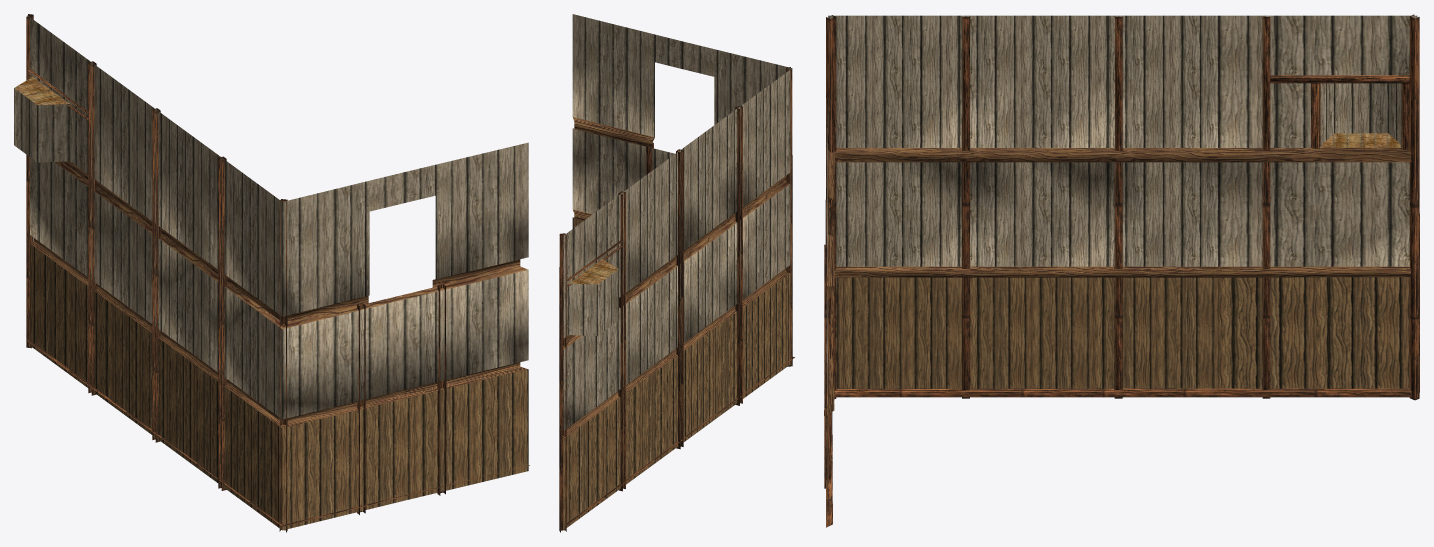
The model's file is LAKETOWN_WAREHOUSE3_PS_WH3_SIDEWALLS77464__GX.fbx.
3 renders of one model, left to right at view 1: azimuth 30°, elevation 25°; view 2: azimuth 150°, elevation 25°; view 3: azimuth 270°, elevation 25°, orthographic. The views are drawn at different scales.
Parts seen in each view (by area): view 1: LAKETOWN_WAREHOUSE3_PS_WH3_SIDEWALLS77464__GX; view 2: LAKETOWN_WAREHOUSE3_PS_WH3_SIDEWALLS77464__GX; view 3: LAKETOWN_WAREHOUSE3_PS_WH3_SIDEWALLS77464__GX.
Part boxes in pixels (box(x1,y1,x2,y2)): LAKETOWN_WAREHOUSE3_PS_WH3_SIDEWALLS77464__GX: box(14, 14, 529, 532); LAKETOWN_WAREHOUSE3_PS_WH3_SIDEWALLS77464__GX: box(559, 14, 794, 532); LAKETOWN_WAREHOUSE3_PS_WH3_SIDEWALLS77464__GX: box(824, 14, 1419, 527).
Bounding box in the file's own units: 111953 × 129590 × 183188.
Materials: 5 (5 with a texture image).
